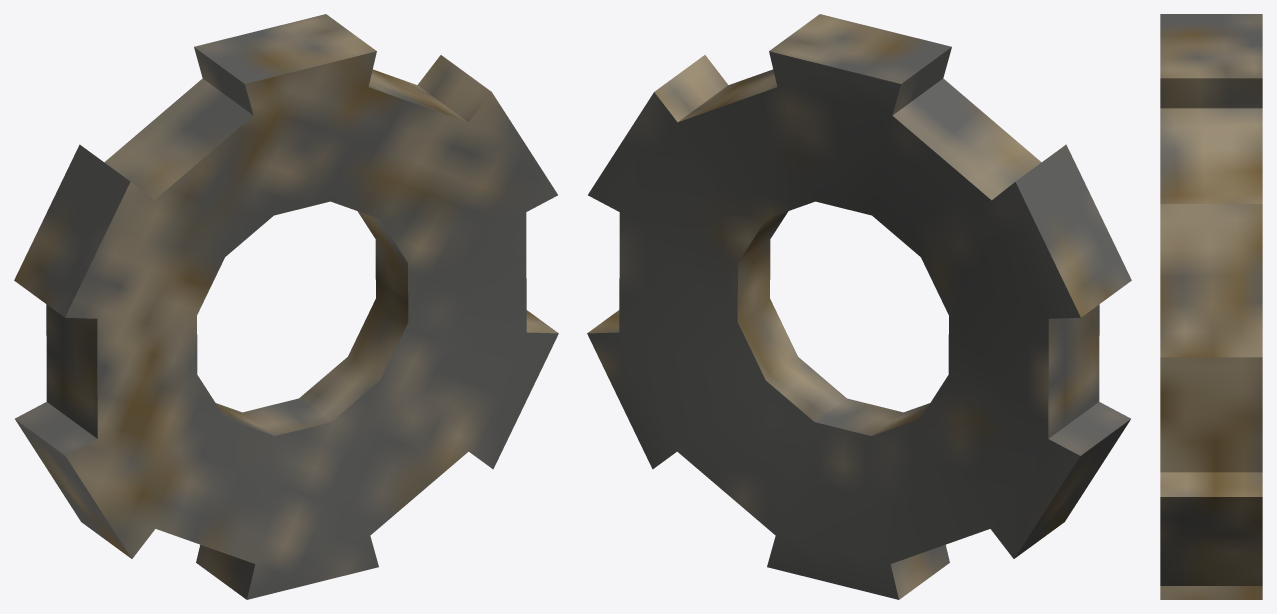
File: Engrenagem_1.glb
3 renders of one model, left to right at view 1: azimuth 30°, elevation 25°; view 2: azimuth 150°, elevation 25°; view 3: azimuth 270°, elevation 25°, orthographic.
Parts seen in each view (by area): view 1: Engrenagem.1; view 2: Engrenagem.1; view 3: Engrenagem.1.
Boxes of the visible parts, x1,y1,x2,y2 form: Engrenagem.1: (14,14,558,599); Engrenagem.1: (587,14,1131,599); Engrenagem.1: (1160,14,1262,599).
Size of the model in its own units: 0.3299 by 0.3299 by 0.0589.
1 material, 1 textured.
